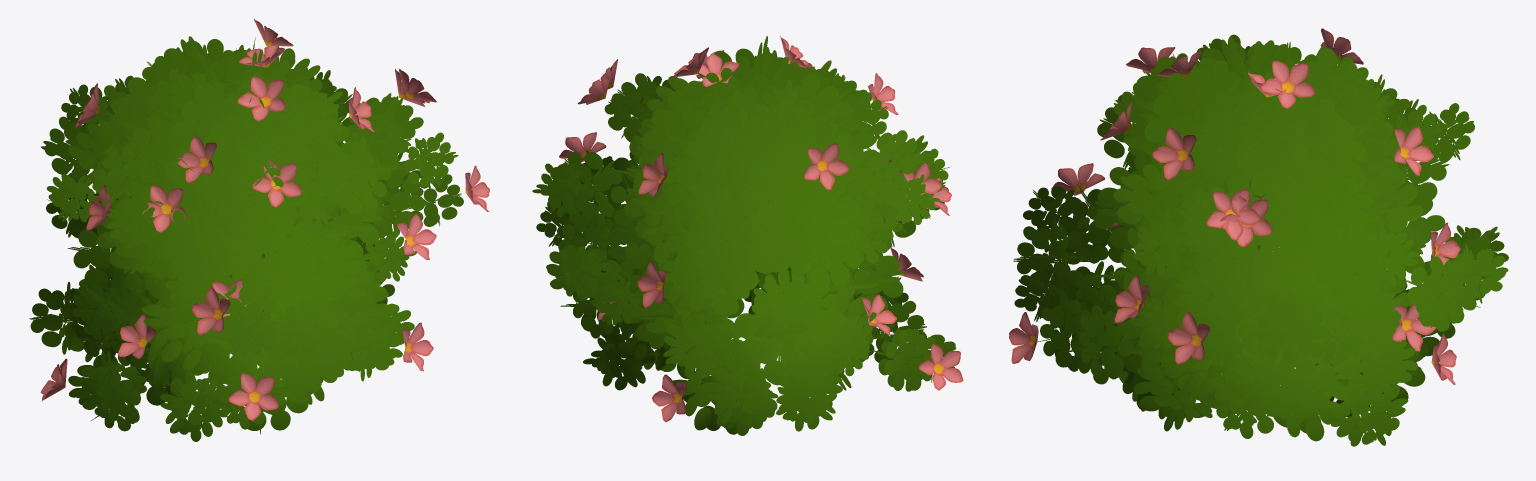
File: Bush_Large_Flowers.glb
3 views of the same model, side by side, from view 1: azimuth 30°, elevation 25°; view 2: azimuth 150°, elevation 25°; view 3: azimuth 270°, elevation 25° (orthographic). The views are drawn at different scales.
Visible parts, largest first — view 1: Bush_Large_Flowers; view 2: Bush_Large_Flowers; view 3: Bush_Large_Flowers.
Part boxes in pixels (x1=…): Bush_Large_Flowers: x1=29, y1=19, x2=489, y2=441; Bush_Large_Flowers: x1=532, y1=36, x2=963, y2=435; Bush_Large_Flowers: x1=1009, y1=28, x2=1508, y2=446.
Bounding box in the file's own units: 3.8 × 3.26 × 3.67.
2 materials, 2 textured.
